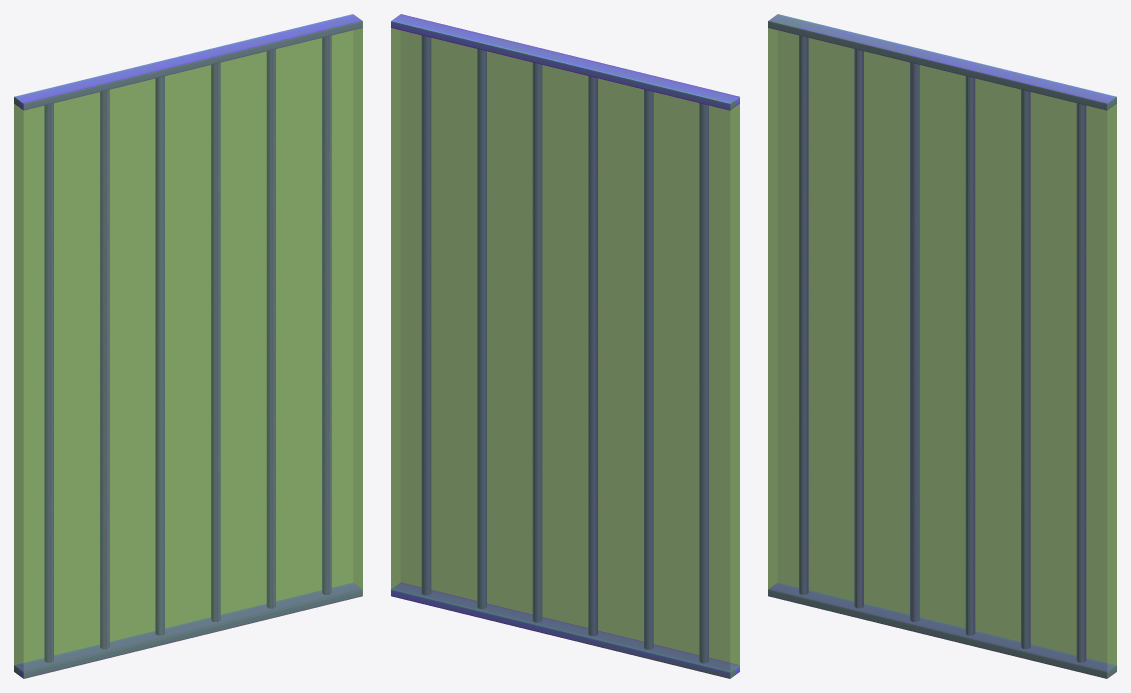
File: F_Cage_S_02.fbx
3 views of the same model, side by side, from view 1: azimuth 30°, elevation 25°; view 2: azimuth 150°, elevation 25°; view 3: azimuth 330°, elevation 25° (orthographic).
Visible parts, largest first — view 1: F_Cage_S_02_col_01, F_Cage_S_02_LOD0; view 2: F_Cage_S_02_col_01, F_Cage_S_02_LOD0; view 3: F_Cage_S_02_col_01, F_Cage_S_02_LOD0.
Part boxes in pixels (<box>): F_Cage_S_02_col_01: <box>14,16,362,678</box>; F_Cage_S_02_LOD0: <box>14,14,362,678</box>; F_Cage_S_02_col_01: <box>391,14,739,678</box>; F_Cage_S_02_LOD0: <box>391,14,739,678</box>; F_Cage_S_02_col_01: <box>768,14,1116,678</box>; F_Cage_S_02_LOD0: <box>768,14,1116,678</box>.
Size of what is drawn, in the model's own units: 102 by 165 by 5.04.
Materials: 2 (1 with a texture image).
